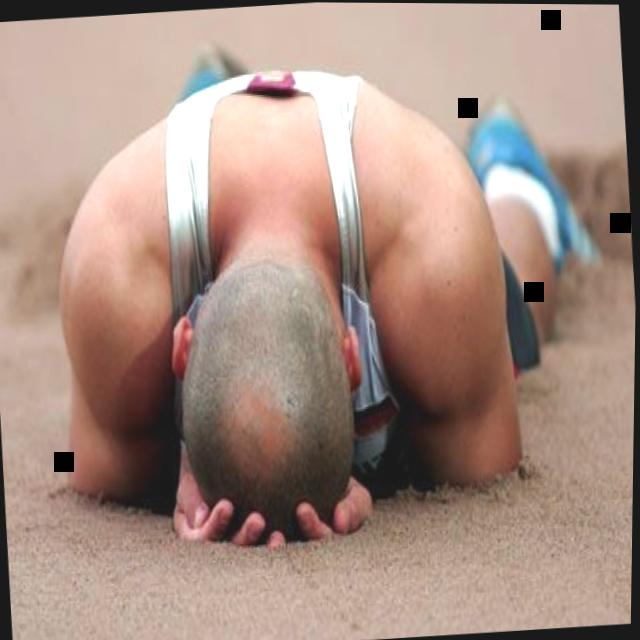Fall-Detected: (1, 0, 640, 564)
